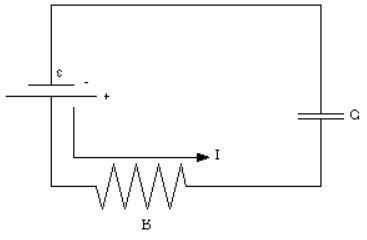Capacitor: (288, 85, 346, 143)
